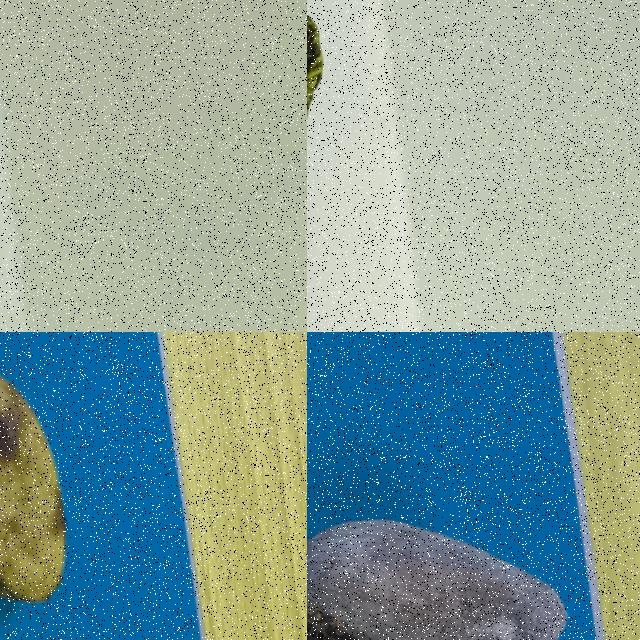Agglomerated_cocoabeans: (307, 433, 621, 639)
Fine_cocoabeans: (0, 332, 135, 639)
Flat_cocoabeans: (307, 0, 404, 245)
